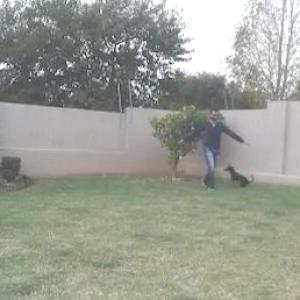land: (158, 95, 235, 199)
